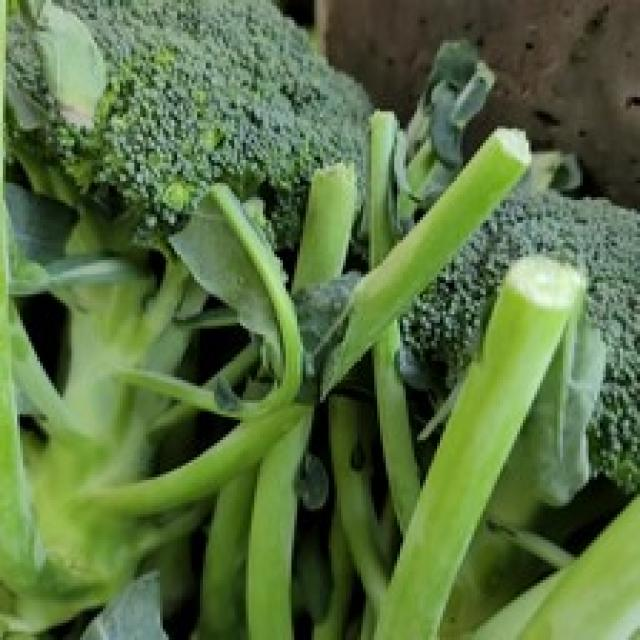Broccoli: (11, 0, 371, 248), (11, 0, 370, 247), (402, 192, 640, 491), (402, 192, 640, 491)
